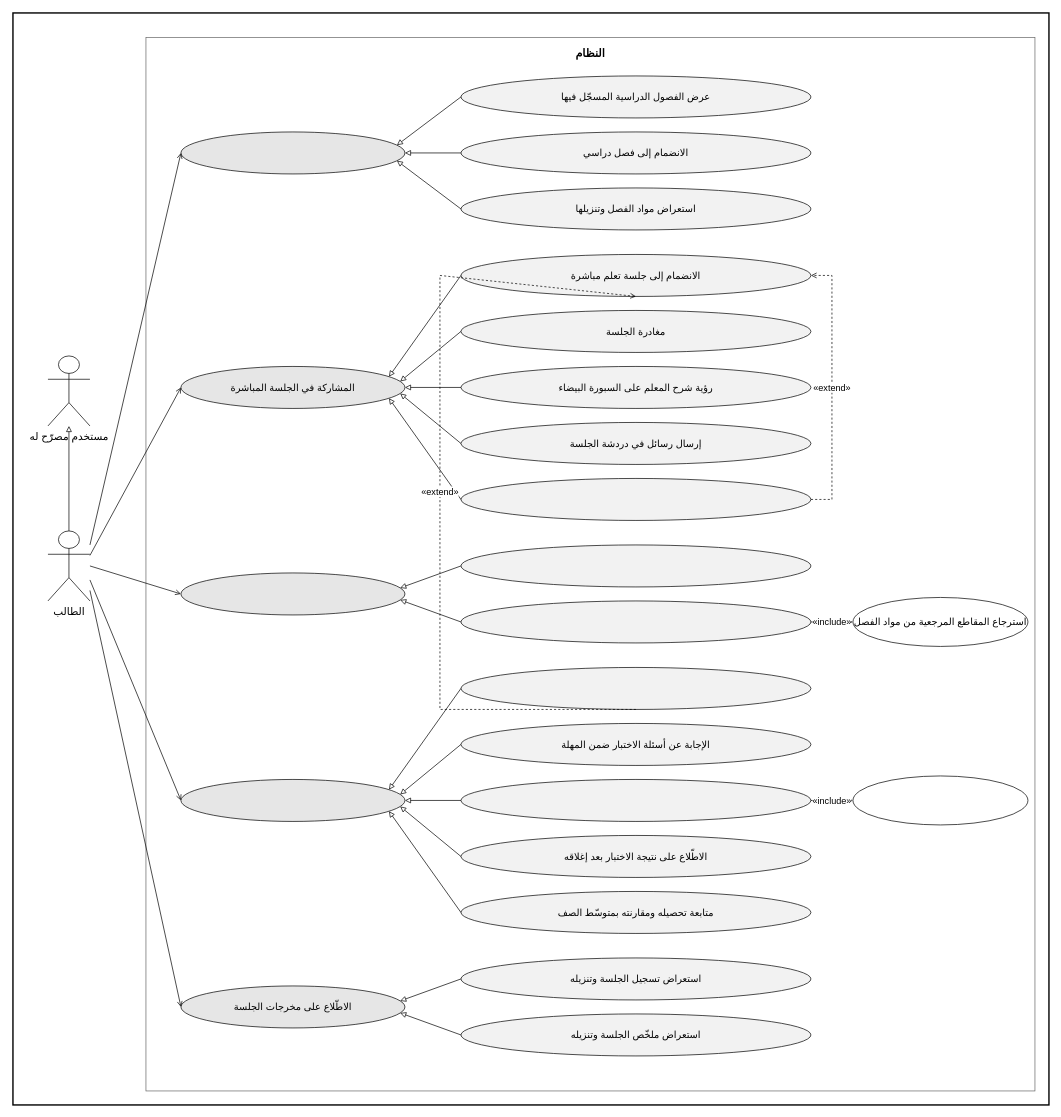
Image size: 1061x1117. Some labels were removed from this diagram. Here are the shapes that lost their labels. From the top down, the centre of each, then its label:
At pixel 292 152: "الوصول إلى فصوله الدراسية".
At pixel 635 499: "المشاركة بالصوت أو الصورة".
At pixel 635 565: "طرح سؤال على المعلم أثناء الجلسة".
At pixel 292 593: "طرح الأسئلة".
At pixel 635 621: "طرح سؤال على النظام يُجاب من مواد الفصل".
At pixel 635 688: "عرض الاختبار المفتوح في الجلسة".
At pixel 292 800: "التعامل مع الاختبارات".
At pixel 635 800: "تسليم الاختبار".
At pixel 940 800: "تصحيح الإجابات واحتساب العلامة".
